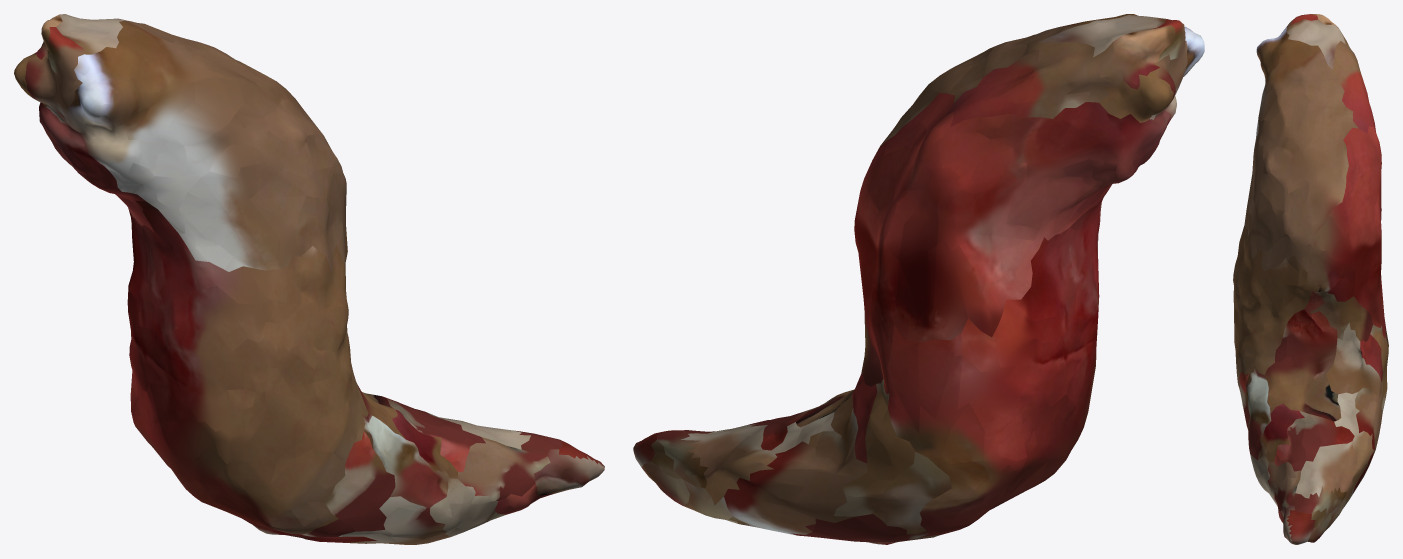
Rendered from yamEsacpe_YamWalk_0013_yamWalk03.fbx.
The picture shows the model from 3 angles, left to right: view 1: azimuth 30°, elevation 25°; view 2: azimuth 150°, elevation 25°; view 3: azimuth 270°, elevation 25°; orthographic projection. The views are drawn at different scales.
Parts seen in each view (by area): view 1: YamWalk_0013_yamWalk03; view 2: YamWalk_0013_yamWalk03; view 3: YamWalk_0013_yamWalk03.
Boxes of the visible parts, x1,y1,x2,y2 form: YamWalk_0013_yamWalk03: (14,14,604,544); YamWalk_0013_yamWalk03: (633,14,1204,544); YamWalk_0013_yamWalk03: (1233,14,1388,544).
Bounding box in the file's own units: 0.0818 × 0.0827 × 0.0308.
